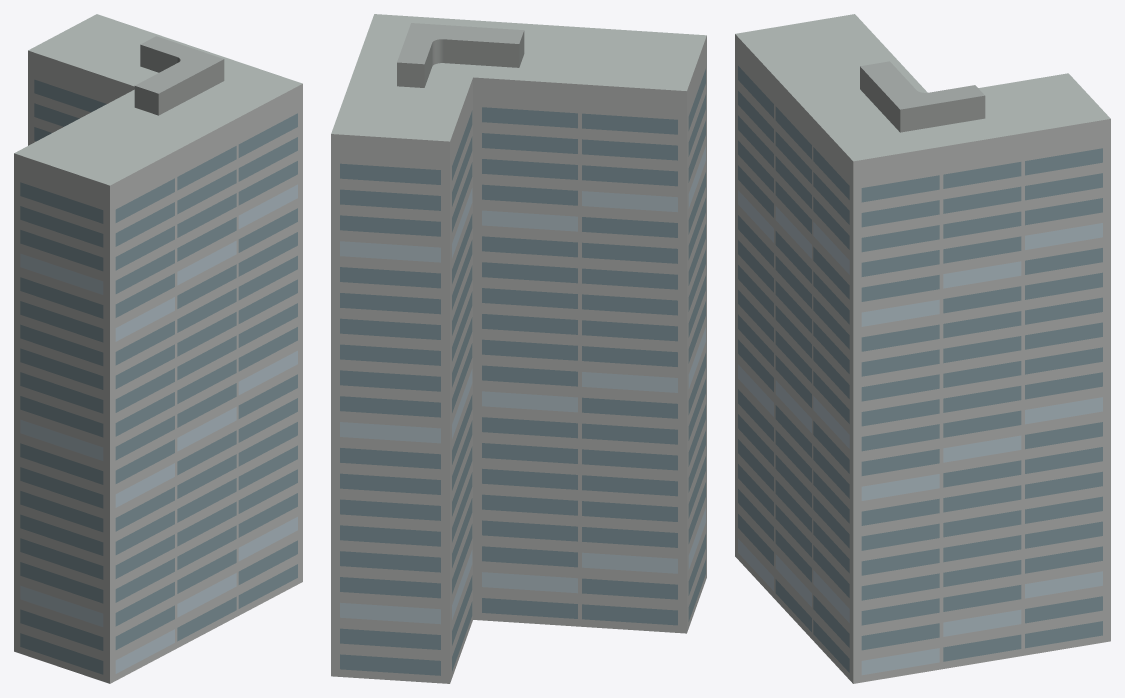
Rendered from fallback-dogok-rexls-301.glb.
3 views of the same model, side by side, from view 1: azimuth 30°, elevation 25°; view 2: azimuth 150°, elevation 25°; view 3: azimuth 270°, elevation 25° (orthographic). The views are drawn at different scales.
Parts seen in each view (by area): view 1: fallback-dogok-rexls-301; view 2: fallback-dogok-rexls-301; view 3: fallback-dogok-rexls-301.
Part boxes in pixels (x1,y1,x2,y2): fallback-dogok-rexls-301: [14, 14, 302, 683]; fallback-dogok-rexls-301: [331, 14, 706, 683]; fallback-dogok-rexls-301: [735, 14, 1110, 683].
Bounding box in the file's own units: 33.03 × 57 × 35.59.
